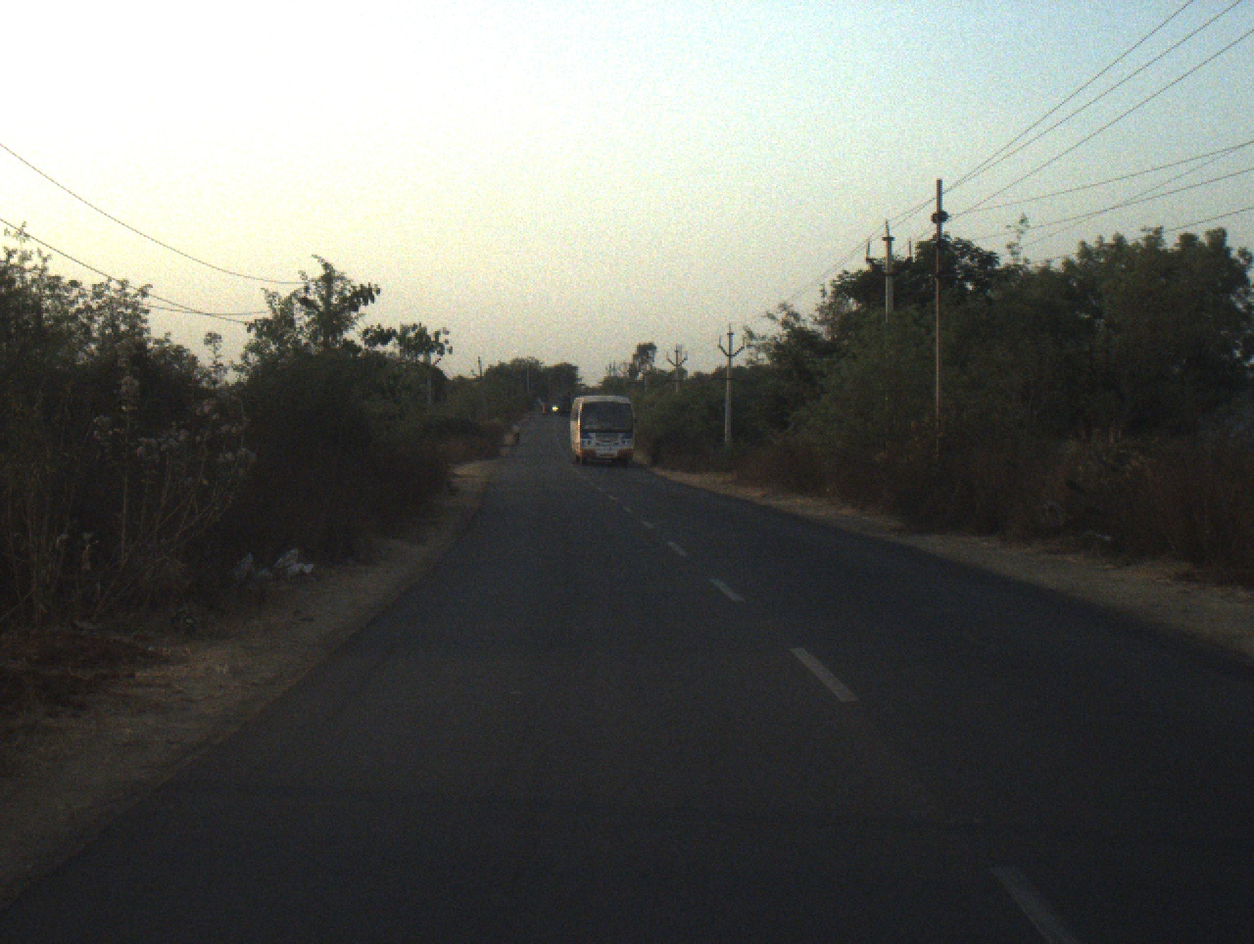autorickshaw: (538, 401, 551, 417)
bicycle: (513, 432, 519, 444)
bus: (563, 393, 640, 469)
rider: (511, 420, 519, 439)
vehicle fallback: (551, 402, 559, 416)
